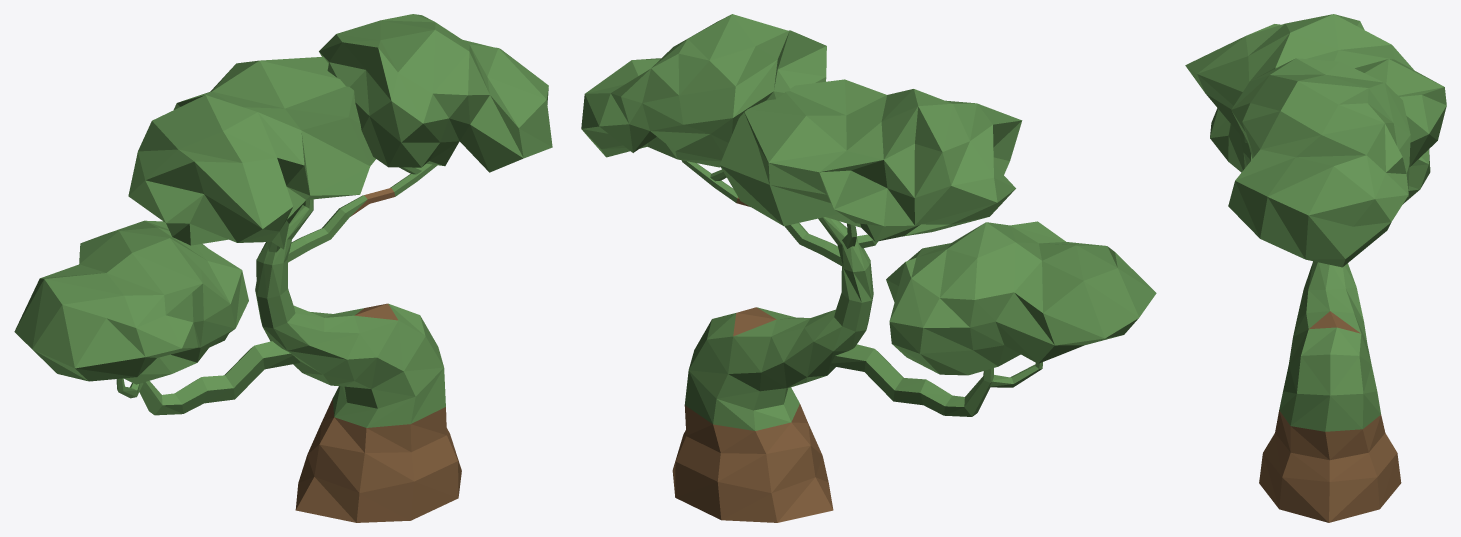
File: tree3d-059.glb
The picture shows the model from 3 angles, left to right: view 1: azimuth 30°, elevation 25°; view 2: azimuth 150°, elevation 25°; view 3: azimuth 270°, elevation 25°; orthographic projection. The views are drawn at different scales.
Visible parts, largest first — view 1: tree3d-059; view 2: tree3d-059; view 3: tree3d-059.
Part boxes in pixels (x1=…): tree3d-059: x1=14, y1=14, x2=552, y2=522; tree3d-059: x1=581, y1=14, x2=1156, y2=522; tree3d-059: x1=1185, y1=14, x2=1446, y2=522.
Size of the model in its own units: 1.19 by 1 by 0.5616.
